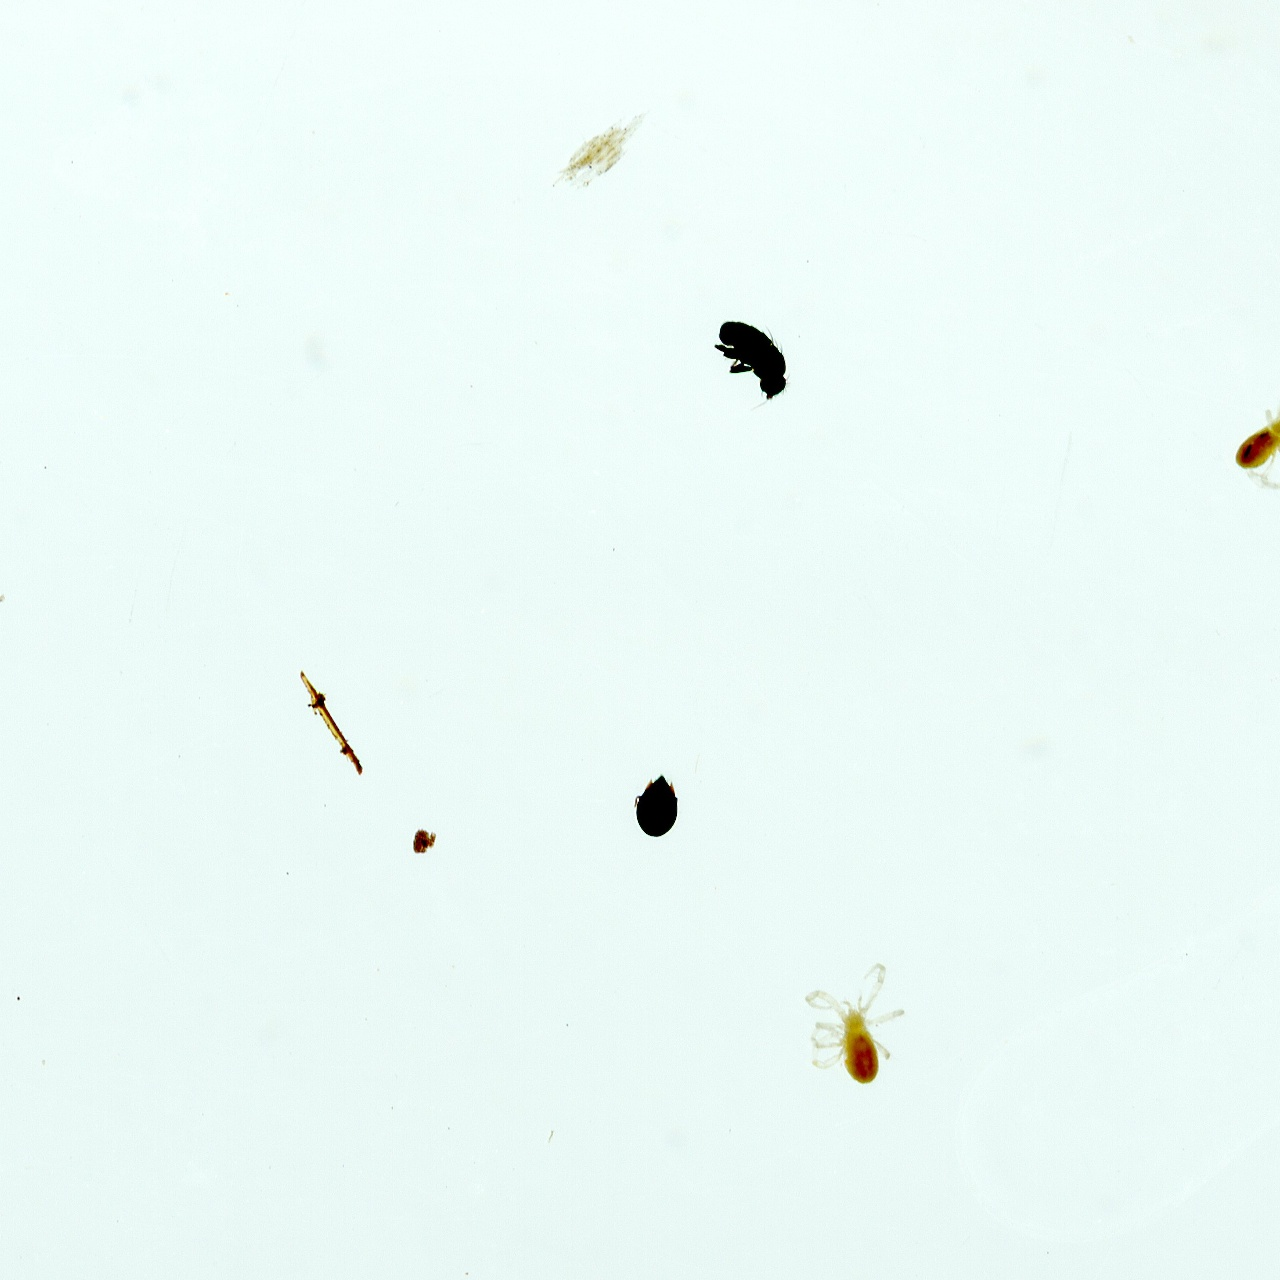arthropod: (803, 959, 908, 1087), (1213, 360, 1280, 519), (709, 316, 795, 416), (633, 771, 681, 842)
